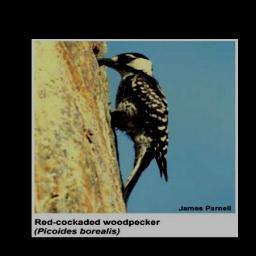Woodpecker: (93, 51, 174, 204)
